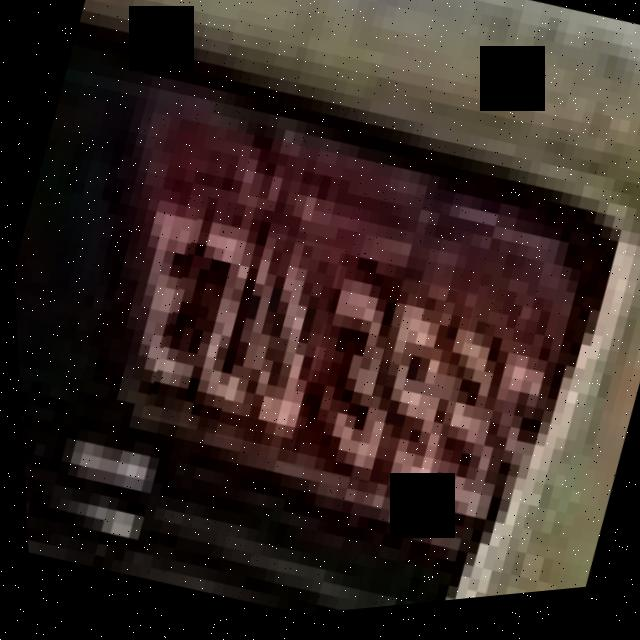3: (394, 308, 541, 545)
8: (271, 253, 429, 496)
9: (335, 280, 483, 520)
E: (89, 192, 226, 413)
U: (202, 232, 351, 463)
Z: (132, 193, 308, 451)
